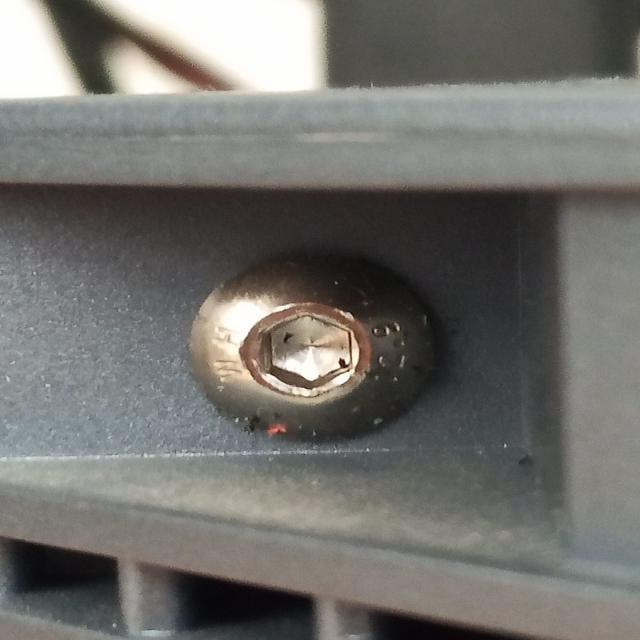allen: (266, 312, 360, 386)
